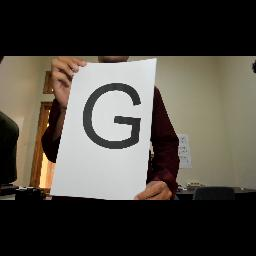g: (81, 80, 145, 152)
